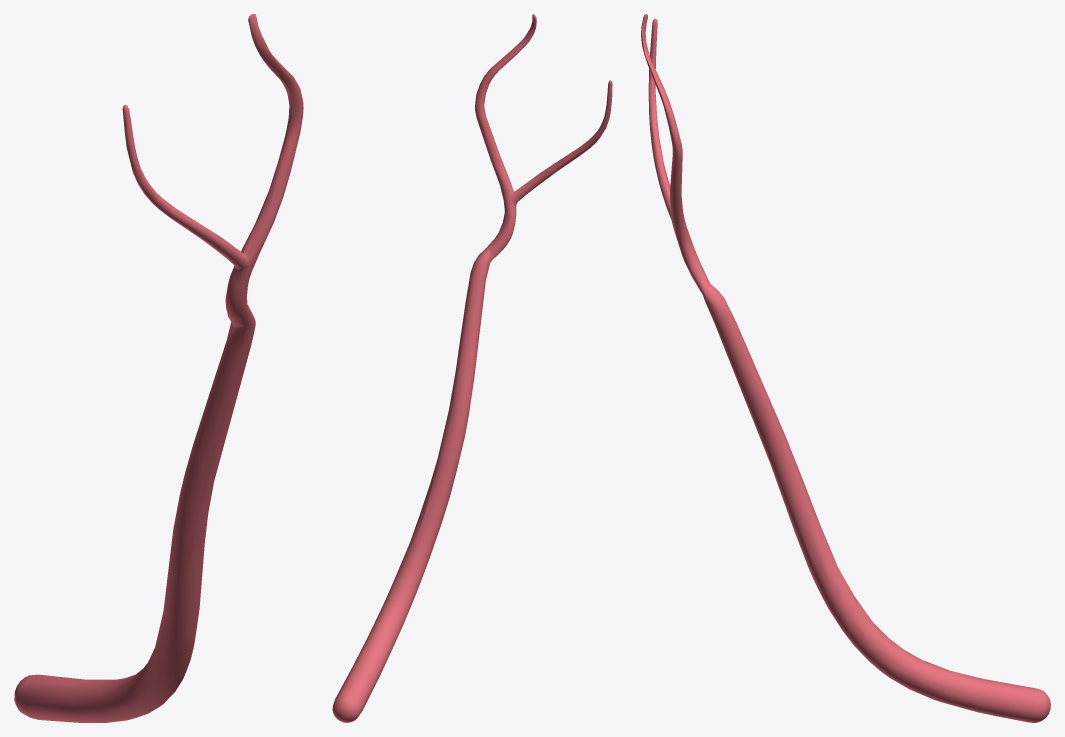
File: fma44341_fj2122.glb
3 views of the same model, side by side, from view 1: azimuth 30°, elevation 25°; view 2: azimuth 150°, elevation 25°; view 3: azimuth 270°, elevation 25° (orthographic). The views are drawn at different scales.
Parts seen in each view (by area): view 1: FMA44341_FJ2122; view 2: FMA44341_FJ2122; view 3: FMA44341_FJ2122.
Part boxes in pixels (x1,y1,x2,y2): FMA44341_FJ2122: [14, 14, 303, 722]; FMA44341_FJ2122: [332, 14, 612, 722]; FMA44341_FJ2122: [641, 14, 1050, 722].
Size of the model in its own units: 0.0294 by 0.1281 by 0.0685.
